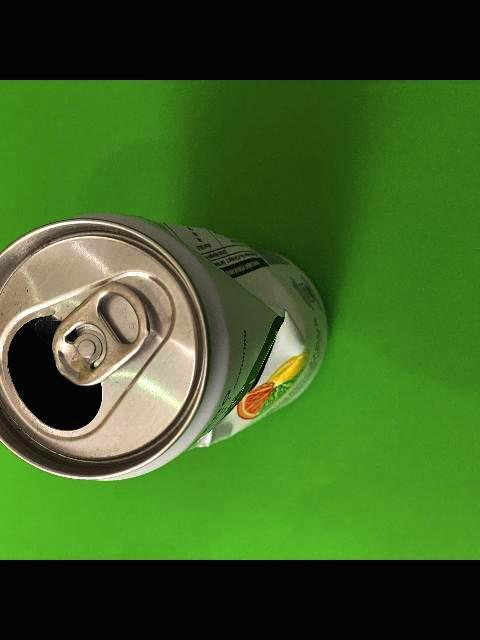drinkcan: (0, 212, 331, 483)
